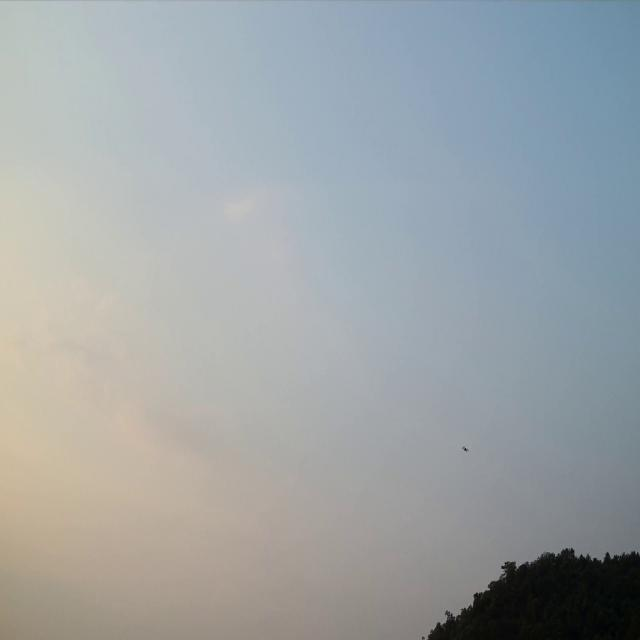UAV: (463, 446, 470, 453)
